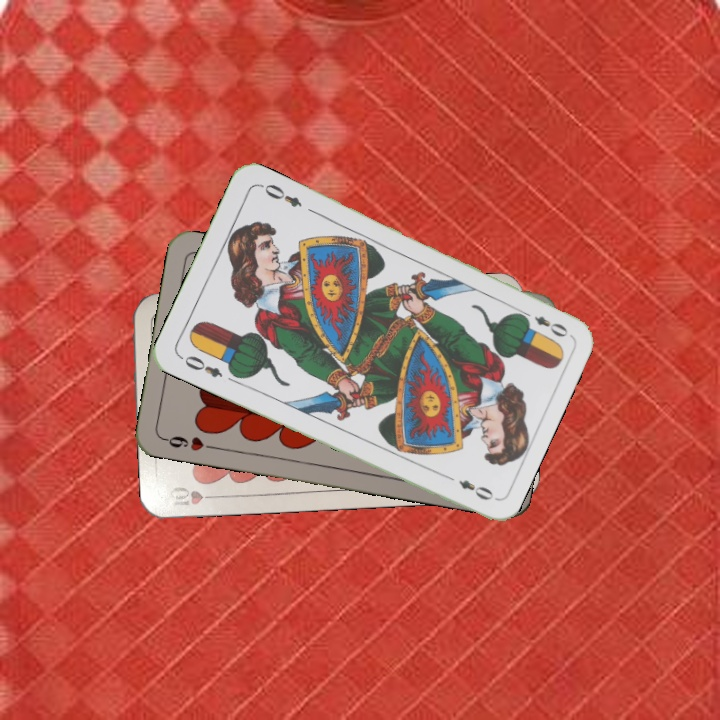EO: (515, 306, 571, 340), (176, 351, 226, 380)
H10: (165, 482, 224, 510)
H9: (159, 431, 218, 454)
